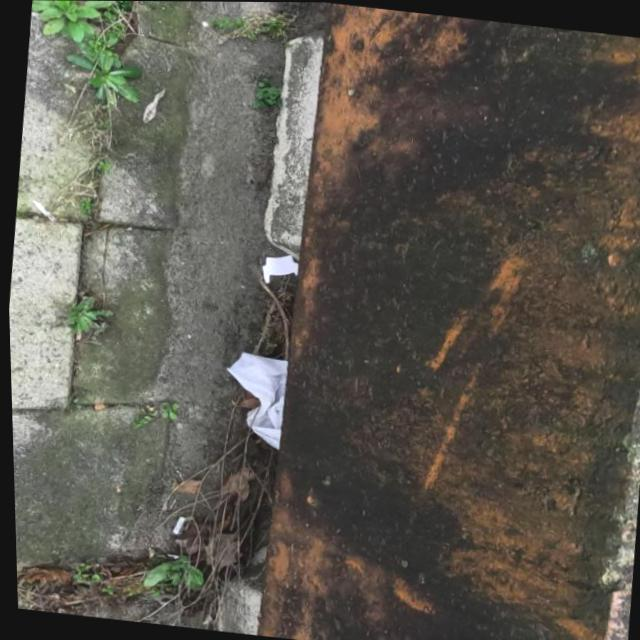Paper: (214, 347, 288, 449)
